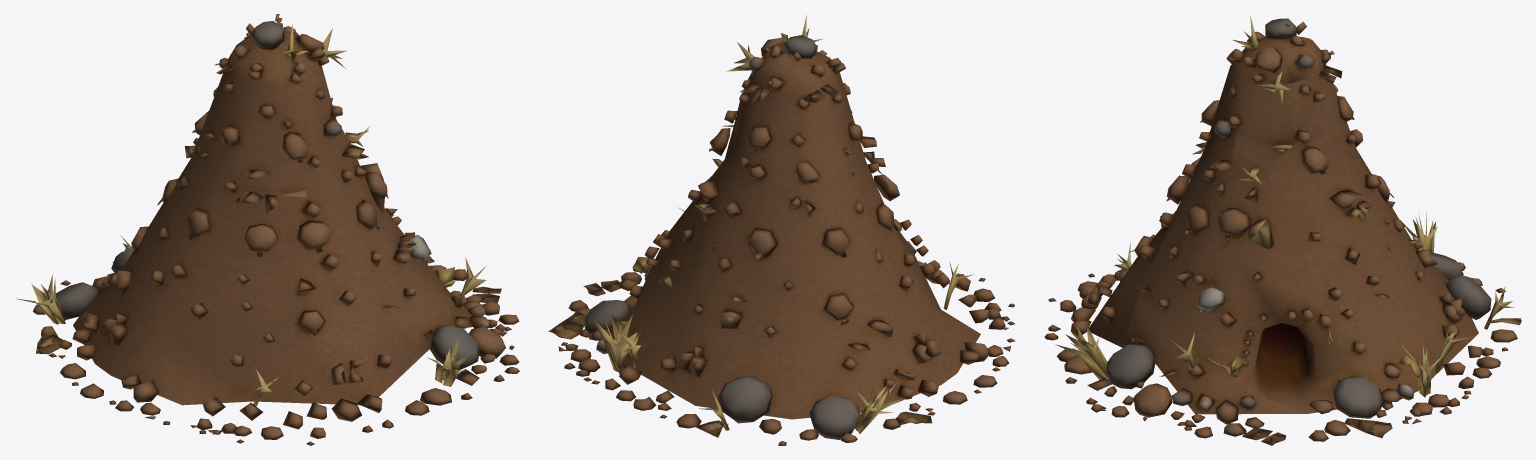
File: anthill.glb
3 views of the same model, side by side, from view 1: azimuth 30°, elevation 25°; view 2: azimuth 150°, elevation 25°; view 3: azimuth 270°, elevation 25° (orthographic). The views are drawn at different scales.
Visible parts, largest first — view 1: tripo_node_ef3cd3bb-c2c7-47d5-9268-f947aa404fac; view 2: tripo_node_ef3cd3bb-c2c7-47d5-9268-f947aa404fac; view 3: tripo_node_ef3cd3bb-c2c7-47d5-9268-f947aa404fac.
Boxes of the visible parts, x1,y1,x2,y2 form: tripo_node_ef3cd3bb-c2c7-47d5-9268-f947aa404fac: (16,14,519,445); tripo_node_ef3cd3bb-c2c7-47d5-9268-f947aa404fac: (548,15,1015,445); tripo_node_ef3cd3bb-c2c7-47d5-9268-f947aa404fac: (1044,15,1521,445).
Bounding box in the file's own units: 0.998 × 0.7559 × 0.9824.
Materials: 1 (1 with a texture image).
